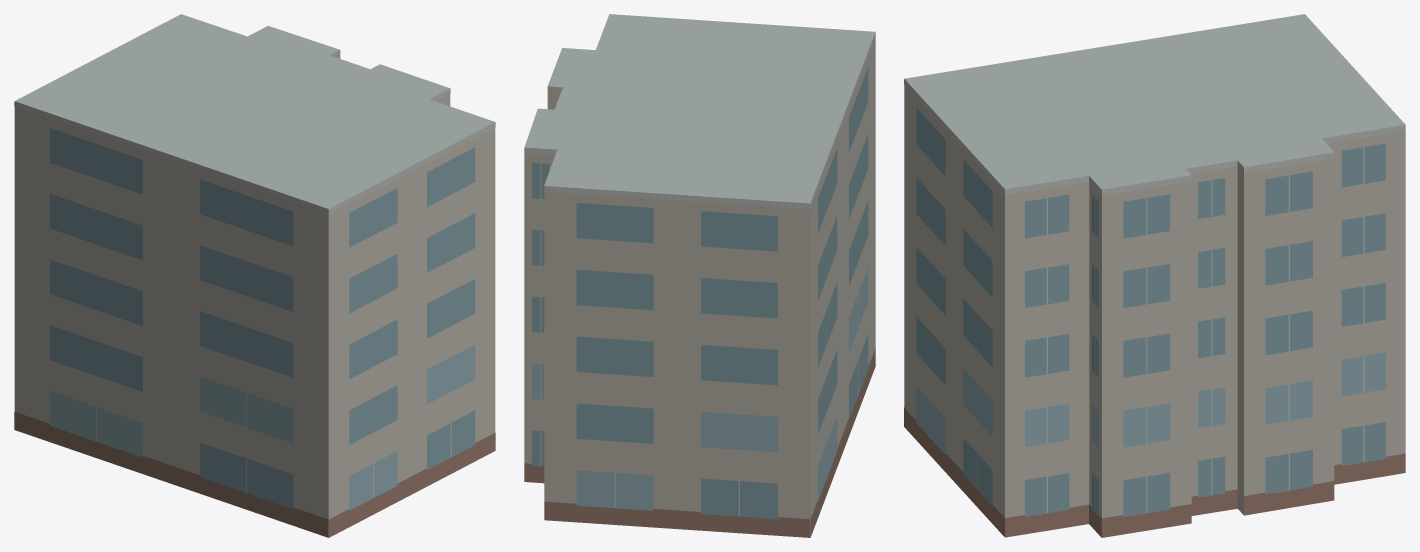
The model's file is survey-upis-32704728.glb.
The picture shows the model from 3 angles, left to right: view 1: azimuth 30°, elevation 25°; view 2: azimuth 150°, elevation 25°; view 3: azimuth 270°, elevation 25°; orthographic projection. The views are drawn at different scales.
Visible parts, largest first — view 1: survey-upis-32704728.tmp; view 2: survey-upis-32704728.tmp; view 3: survey-upis-32704728.tmp.
Part boxes in pixels (x1=…): survey-upis-32704728.tmp: x1=14, y1=14, x2=495, y2=537; survey-upis-32704728.tmp: x1=524, y1=14, x2=875, y2=537; survey-upis-32704728.tmp: x1=904, y1=14, x2=1405, y2=537.
Bounding box in the file's own units: 15.38 × 14.2 × 18.55.
